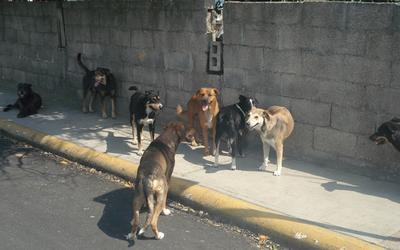dog_aggressive: (174, 78, 222, 155)
normal_dogs: (125, 121, 201, 244), (245, 100, 300, 177), (208, 86, 258, 170), (74, 48, 119, 122), (125, 82, 164, 152), (3, 72, 46, 122)
